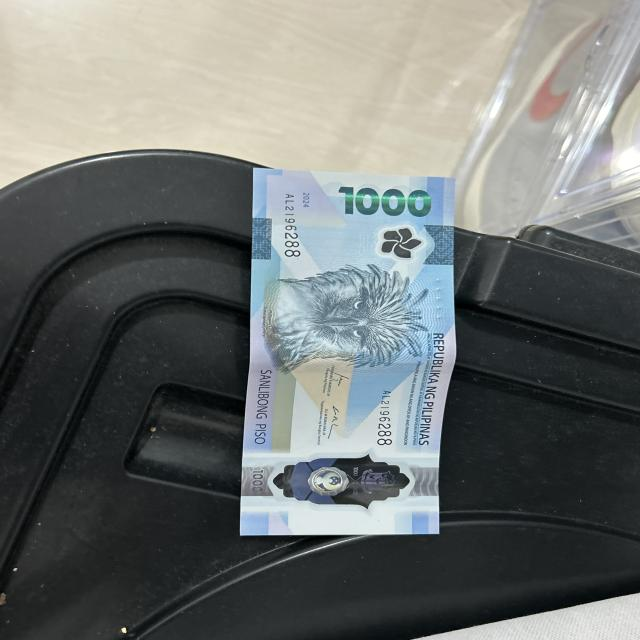clear_window: (272, 450, 406, 510)
eagle: (268, 271, 409, 365)
sampaguita: (376, 224, 426, 261)
serial_number: (274, 185, 312, 262), (370, 379, 400, 456)
